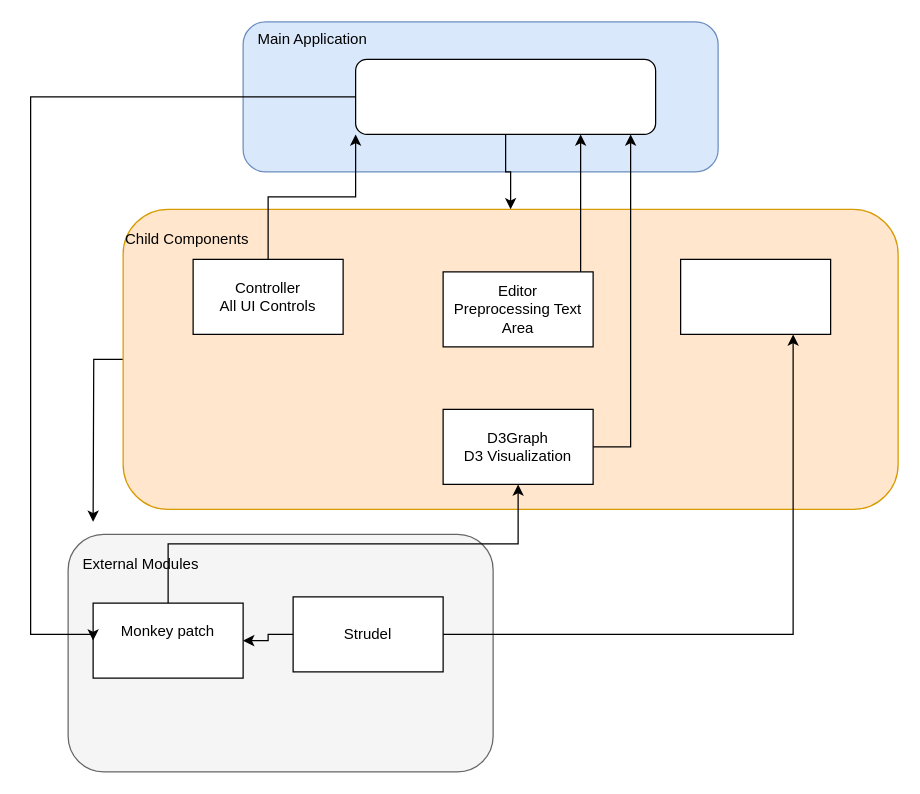
This 920x794 diagram has some shape labels left out. The centre of each missing label's shape, as x and y in pixels:
"App.js managing The core States" belongs at pixel 505 96.
"StrudelRepl Renders Strudel Editor" belongs at pixel 755 296.
